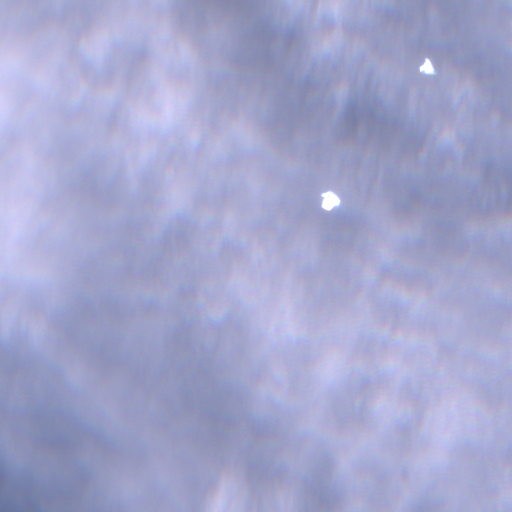Iceberg: (322, 191, 339, 209), (420, 58, 435, 73)
